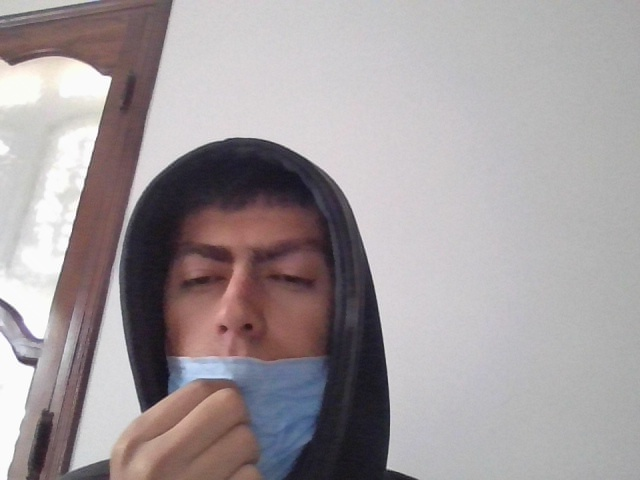mask_weared_incorrect: (156, 192, 354, 480)
